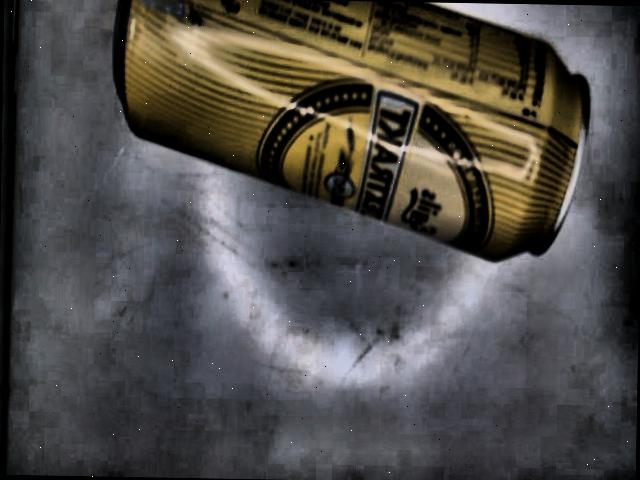Bottles: (112, 0, 589, 261)
